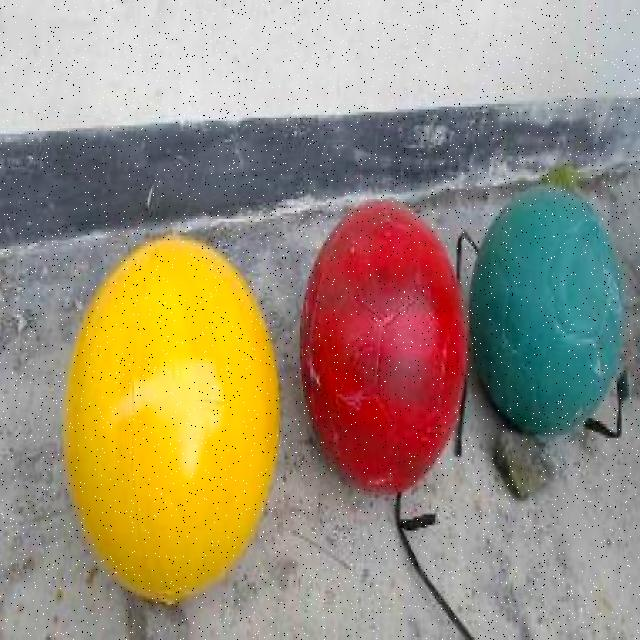buoy: (62, 233, 279, 603), (298, 200, 466, 494), (468, 182, 624, 437)
